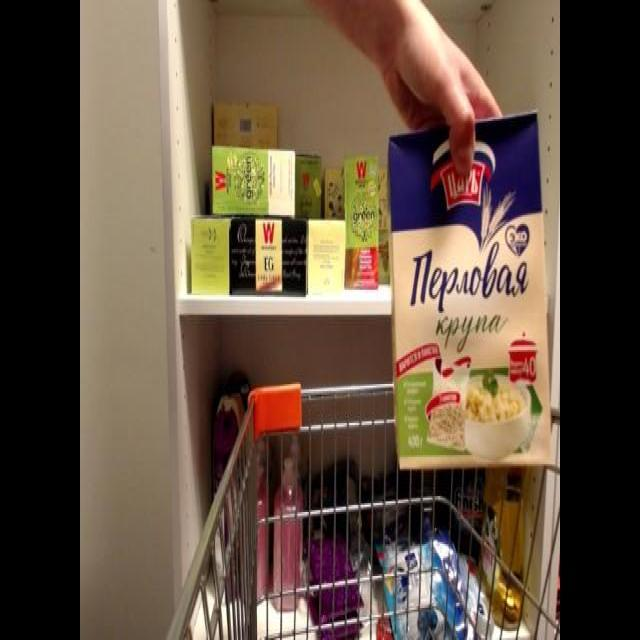Groats: (386, 106, 557, 476)
